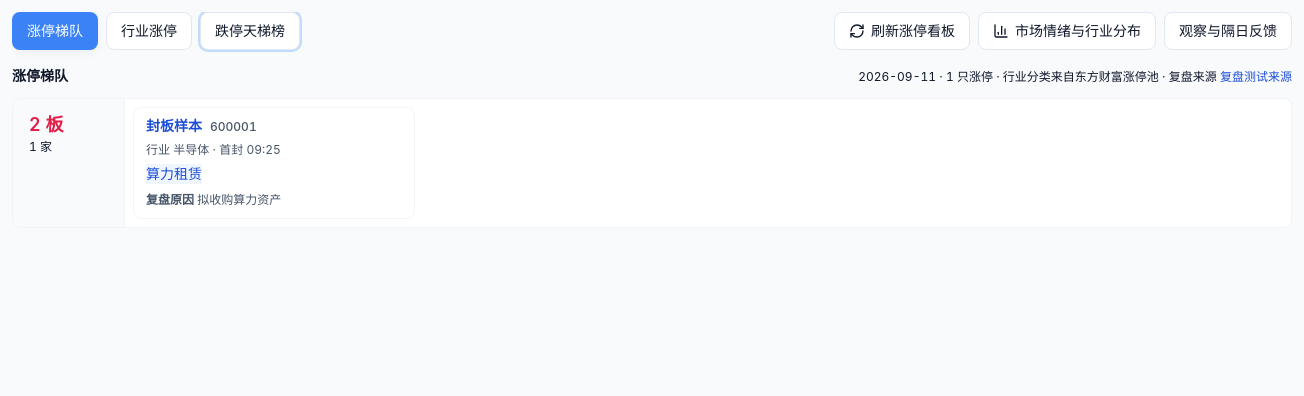
Test: LimitUpBoardPanel independent breadth loading › shows dated board reasons and switches to a descending limit-down ladder with its own themes
The width and height of the screenshot is (1304, 396).
Expected: the link to "https://example.com/review" reads "复盘测试来源", x1=1220 y1=69 x2=1292 y2=84
Step 1. Click the button "跌停天梯榜" → (250, 31), box x1=200 y1=12 x2=300 y2=50
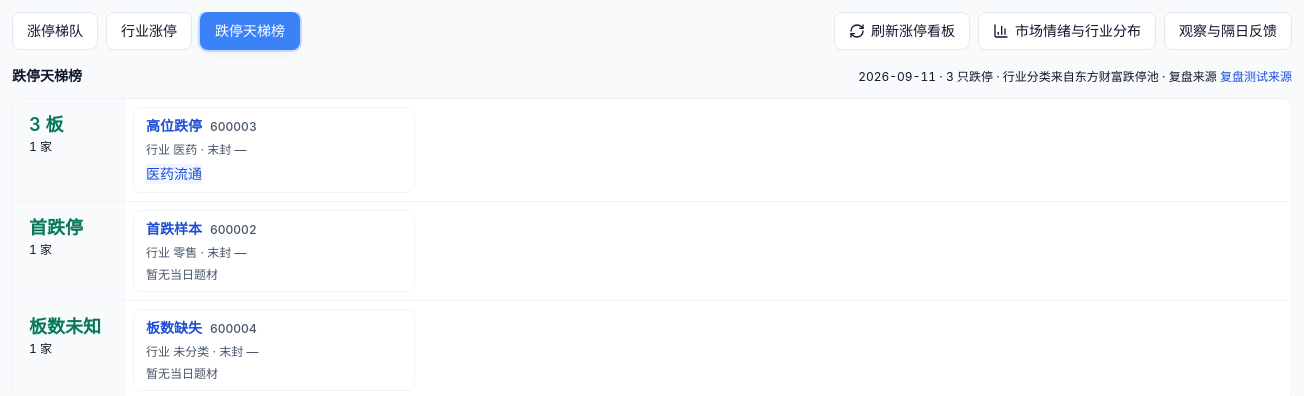
Expected: the text "算力租赁" is gone
Expected: the text "行业 医药" is shown, x1=146 y1=142 x2=246 y2=158
Expected: the text "医药流通" is shown, x1=146 y1=164 x2=202 y2=184
